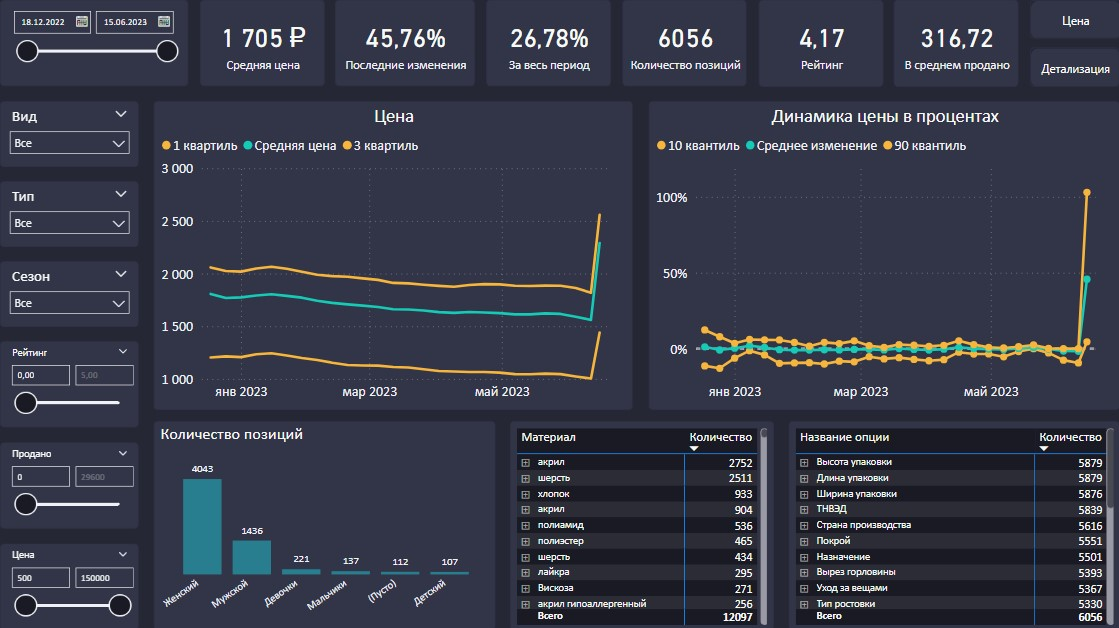

Layout of this report page (visuals, bound fields, positions):
{"tool":"powerbi","page":{"name":"WB","canvas":[1280,720],"ordinal":0},"visuals":[{"type":"lineChart","title":"Цена","fields":{"Category":["history.date.Изменение.Иерархия дат.Год","history.date.Изменение.Иерархия дат.Квартал","history.date.Изменение.Иерархия дат.Месяц","history.date.Изменение.Иерархия дат.День"],"Y":["history._pricePercentile25","Avg(history.price)","history._pricePercentile75"]},"box":[176.2,115,547.5,352.5],"z":0},{"type":"lineChart","title":"Динамика цены в процентах","fields":{"Y":["history._changePercentile25","Avg(history.priceChange)","history._changePercentile75"],"Category":["history.date.Изменение.Иерархия дат.Год","history.date.Изменение.Иерархия дат.Квартал","history.date.Изменение.Иерархия дат.Месяц","history.date.Изменение.Иерархия дат.День"]},"box":[741.2,115,538.8,352.5],"z":1000},{"type":"slicer","fields":{"Values":["history.date"]},"box":[0,0,215,98.8],"z":2000},{"type":"pivotTable","fields":{"Rows":["options.name","options.value"],"Values":["Count(options.index)"]},"box":[901.3,481.2,378.8,238.8],"z":3000},{"type":"clusteredColumnChart","title":"Количество позиций","fields":{"Category":["main_data.kinds"],"Y":["Count(main_data.article)"]},"box":[176.4,481.8,390,238.2],"z":4000},{"type":"slicer","fields":{"Values":["main_data.kinds"]},"box":[0,115.4,158.8,75],"z":5000},{"type":"slicer","fields":{"Values":["main_data.rating"]},"box":[0,390.4,158.8,98.8],"z":6000},{"type":"slicer","fields":{"Values":["main_data.qnt"]},"box":[0,505.8,158.8,98.8],"z":7000},{"type":"slicer","fields":{"Values":["main_data.subj_name"]},"box":[0,207.1,158.8,75],"z":8000},{"type":"slicer","fields":{"Values":["main_data.price"]},"box":[0,621.2,158.8,98.8],"z":9000},{"type":"slicer","fields":{"Values":["seazon.season"]},"box":[0,298.8,158.8,75],"z":10000},{"type":"pivotTable","fields":{"Rows":["compositions.name","compositions.value"],"Values":["CountNonNull(compositions.article)"]},"box":[583.2,481.2,301.2,238.8],"z":11000},{"type":"card","fields":{"Values":["history._meanPrice"]},"box":[227.9,0,142.5,98.8],"z":12000},{"type":"card","fields":{"Values":["history._lastPriceChange"]},"box":[383.3,0,160,98.8],"z":13000},{"type":"card","fields":{"Values":["Count(main_data.article)"]},"box":[711.9,0,141.9,98.8],"z":14000},{"type":"card","fields":{"Values":["Avg(main_data.rating)"]},"box":[866.7,0,142.2,98.9],"z":15000},{"type":"card","fields":{"Values":["Avg(main_data.qnt)"]},"box":[1021.8,0,142.8,98.9],"z":16000},{"type":"card","fields":{"Values":["history._totalPriceChange"]},"box":[556.2,0,142.5,98.8],"z":17000},{"type":"shape","box":[1177.1,0,102.9,44.3],"z":18000},{"type":"shape","box":[1177.5,53.8,102.5,45],"z":19000}]}

Visuals, with their boxes in screenshot pixels (x1, y1, x2, y2), scaled from the page's 1280x720 canvas onto the 1119x628 screenshot:
"Цена" lineChart: (154, 100, 633, 408)
"Динамика цены в процентах" lineChart: (648, 100, 1118, 408)
slicer - history.date: (0, 0, 188, 86)
pivotTable - options.name x options.value: (788, 420, 1118, 627)
"Количество позиций" clusteredColumnChart: (154, 420, 495, 627)
slicer - main_data.kinds: (0, 101, 139, 166)
slicer - main_data.rating: (0, 341, 139, 427)
slicer - main_data.qnt: (0, 441, 139, 527)
slicer - main_data.subj_name: (0, 181, 139, 246)
slicer - main_data.price: (0, 542, 139, 627)
slicer - seazon.season: (0, 261, 139, 326)
pivotTable - compositions.name x compositions.value: (510, 420, 773, 627)
card - history._meanPrice: (199, 0, 324, 86)
card - history._lastPriceChange: (335, 0, 475, 86)
card - Count(main_data.article): (622, 0, 746, 86)
card - Avg(main_data.rating): (758, 0, 882, 86)
card - Avg(main_data.qnt): (893, 0, 1018, 86)
card - history._totalPriceChange: (486, 0, 611, 86)
shape: (1029, 0, 1118, 39)
shape: (1029, 47, 1118, 86)
